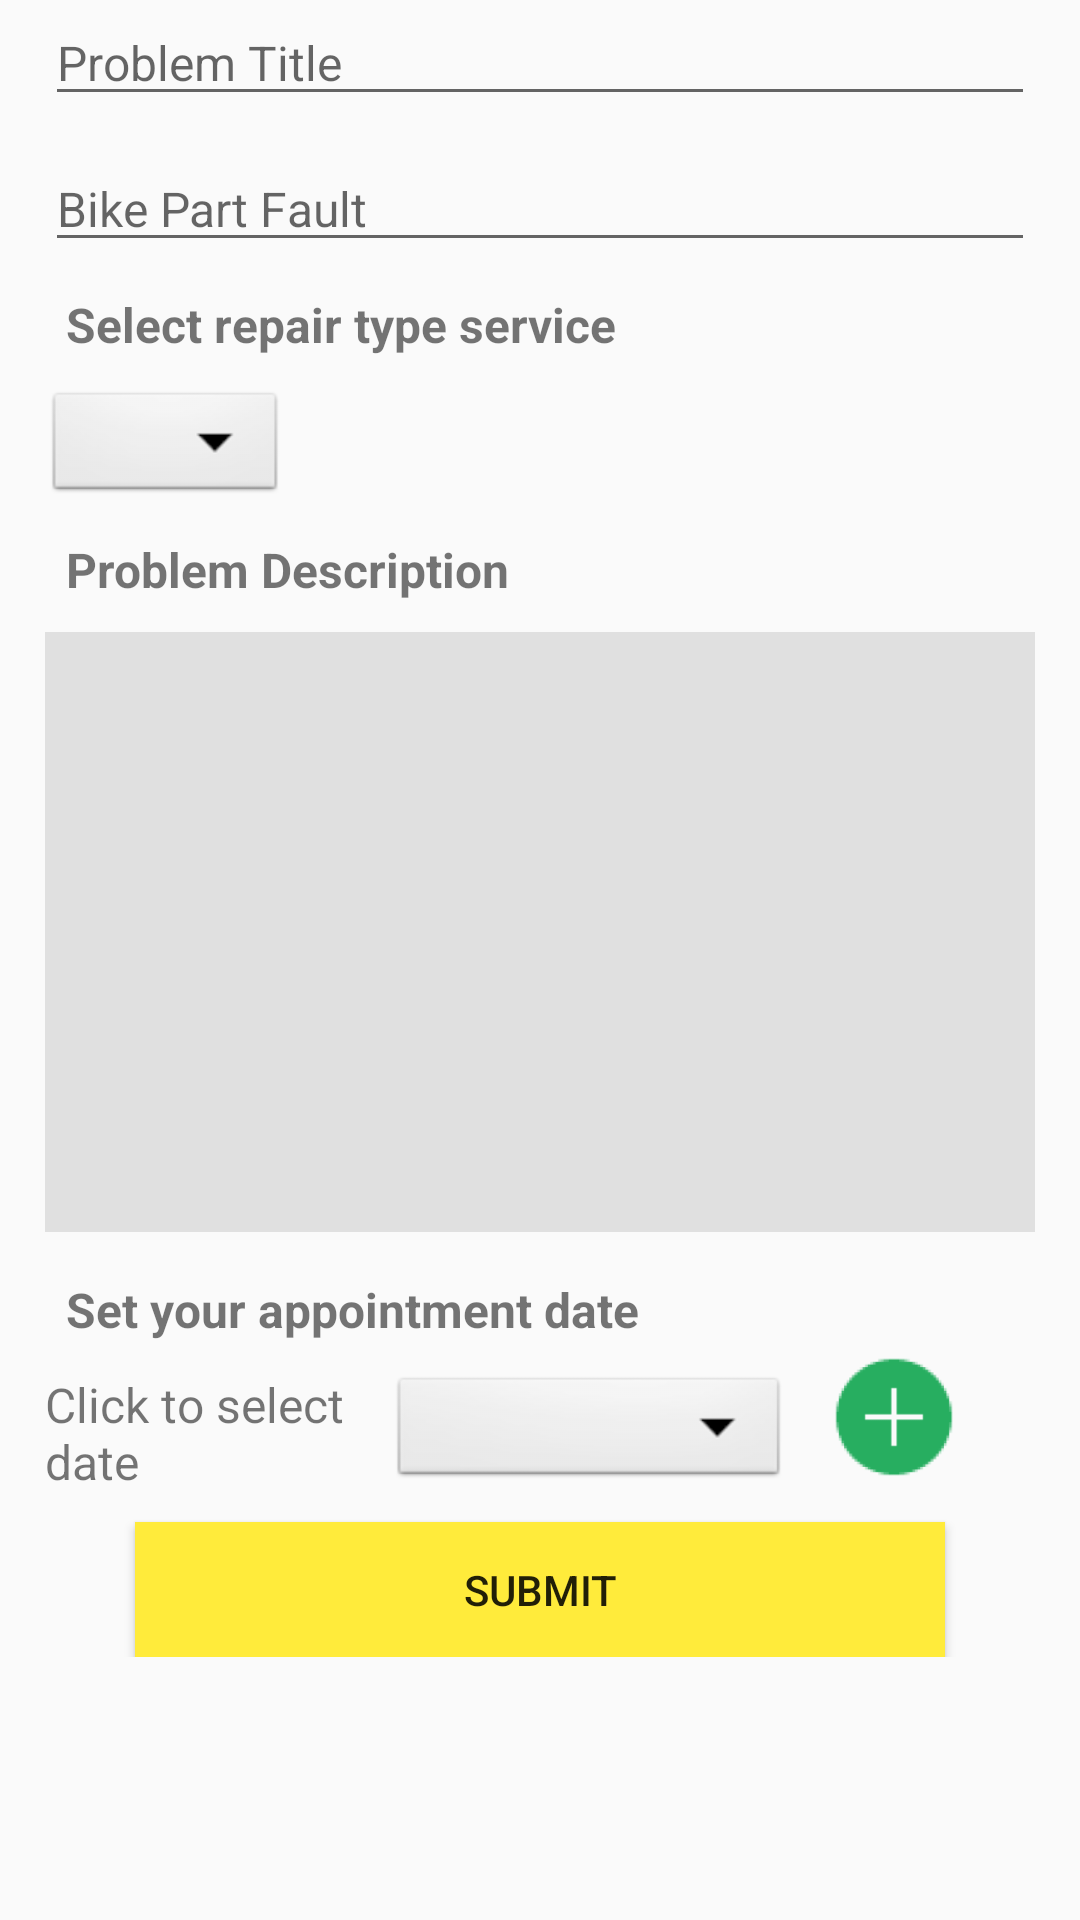

Where icons sit on this 1080px x 1920px app screen, as (x1, y1, x2, y2):
add: (835, 1358, 953, 1476)
